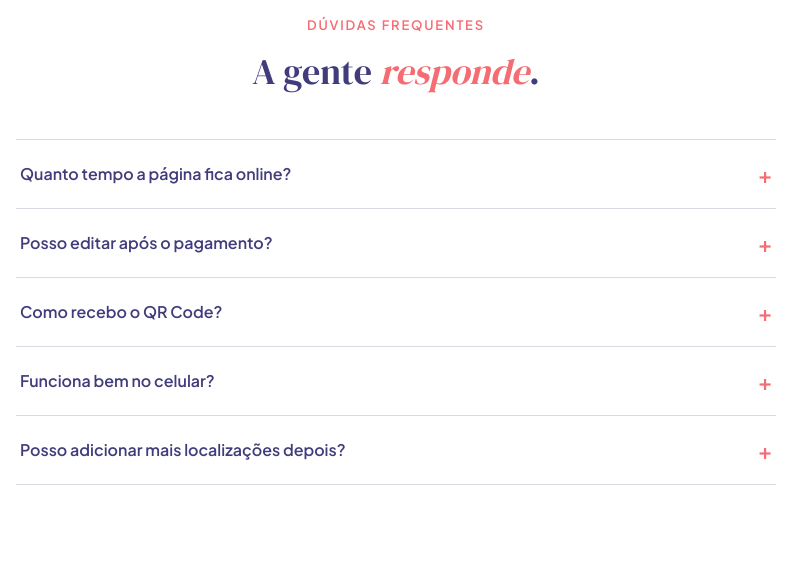
Test: FAQ › should open an item when clicked
Click the button "Quanto tempo a página fica online? +".
click(156, 174)  # box [16,140,776,208]
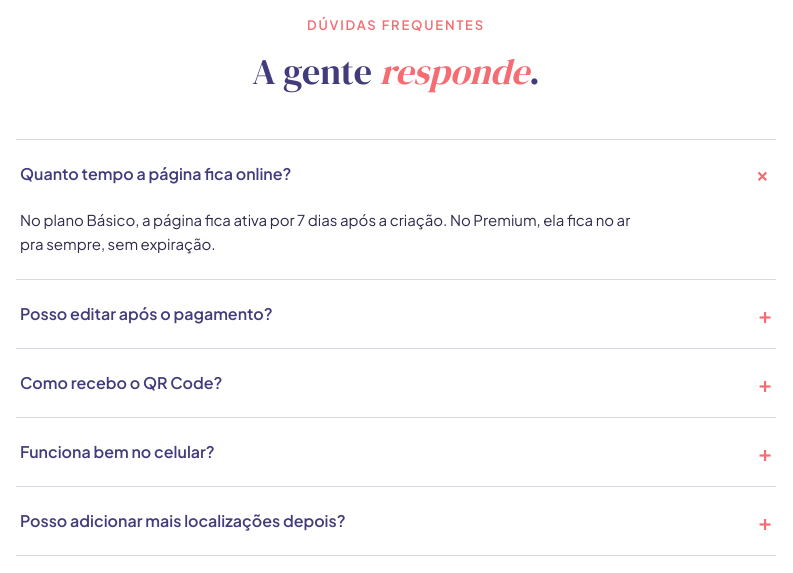
Expected: the button "Quanto tempo a página fica online? +" is expanded, [16,140,776,208]
Expected: the text "No plano Básico" is shown, [20,210,630,254]
